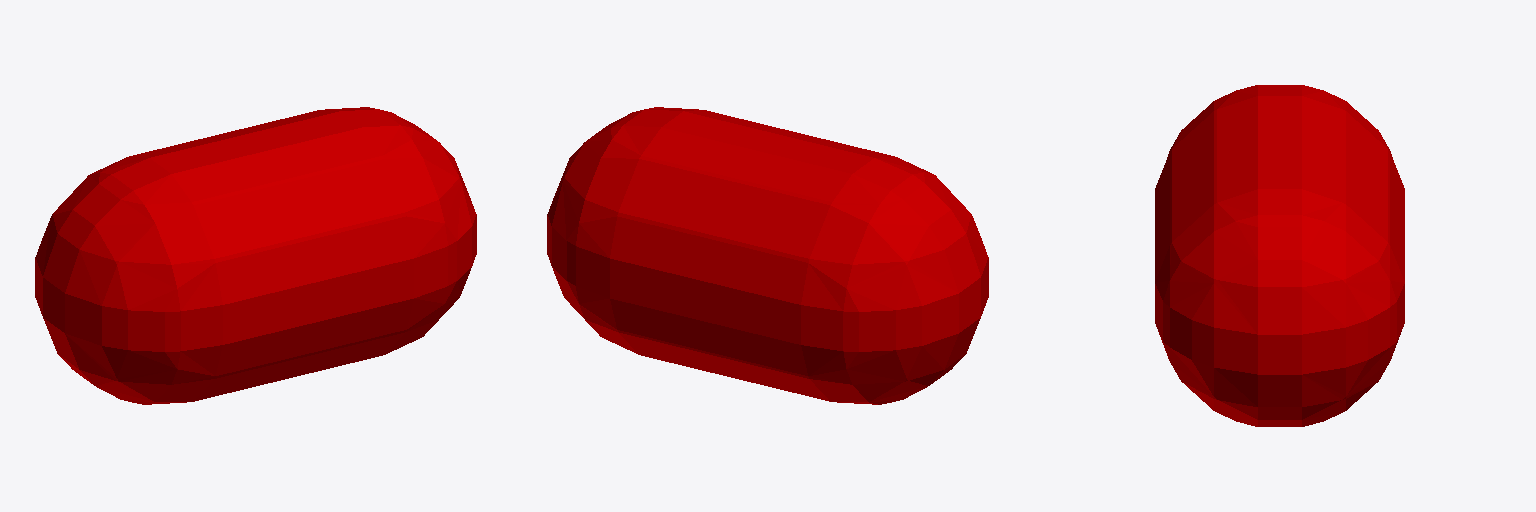
The picture shows the model from 3 angles: view 1: azimuth 30°, elevation 25°; view 2: azimuth 150°, elevation 25°; view 3: azimuth 270°, elevation 25°; orthographic projection.
Visible parts, largest first — view 1: Mball; view 2: Mball; view 3: Mball.
Part boxes in pixels (bbox=[...]): Mball: bbox=[35, 107, 476, 404]; Mball: bbox=[547, 107, 988, 404]; Mball: bbox=[1155, 85, 1404, 426].
Size of the model in its own units: 2.12 by 1.13 by 1.13.